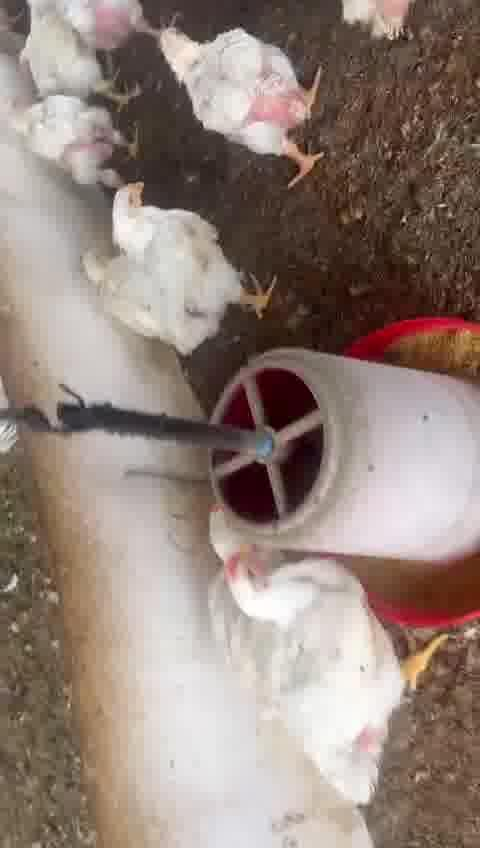Normal: (221, 552, 442, 751), (89, 182, 275, 334), (154, 29, 337, 173)
